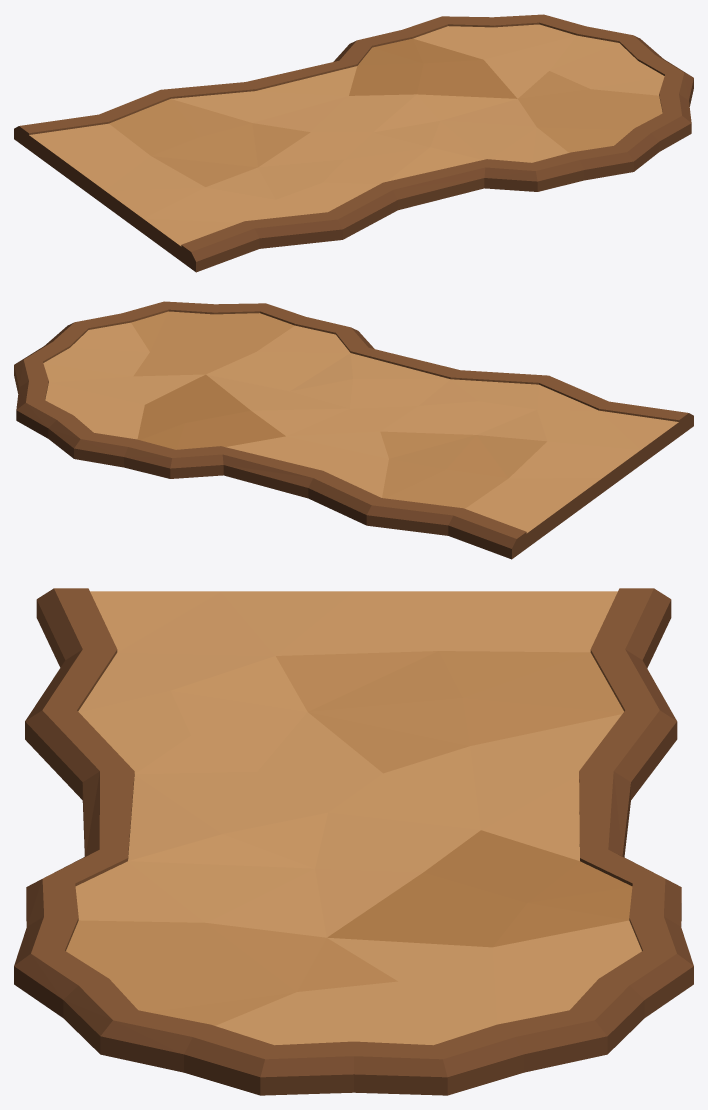
Rendered from FMS_Path_Dirt_End.fbx.
The picture shows the model from 3 angles, top to bottom: view 1: azimuth 30°, elevation 25°; view 2: azimuth 150°, elevation 25°; view 3: azimuth 270°, elevation 25°; orthographic projection. The views are drawn at different scales.
Visible parts, largest first — view 1: FMS_Path_Dirt_End; view 2: FMS_Path_Dirt_End; view 3: FMS_Path_Dirt_End.
Part boxes in pixels (left/top/right/bottom): FMS_Path_Dirt_End: left=14, top=14, right=693, bottom=272; FMS_Path_Dirt_End: left=14, top=301, right=693, bottom=559; FMS_Path_Dirt_End: left=14, top=588, right=693, bottom=1095.
Size of the model in its own units: 1.96 by 0.056 by 1.18.
